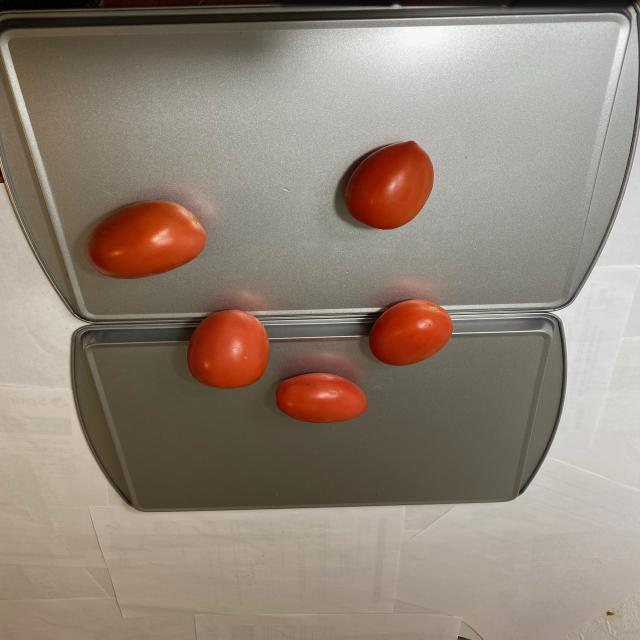tomato: (184, 299, 456, 424), (82, 199, 205, 281), (345, 136, 430, 236)
